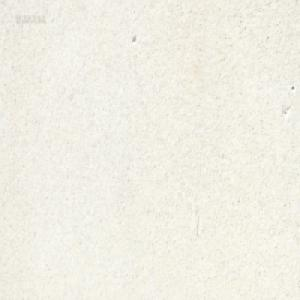Wrench: (182, 0, 188, 5)
